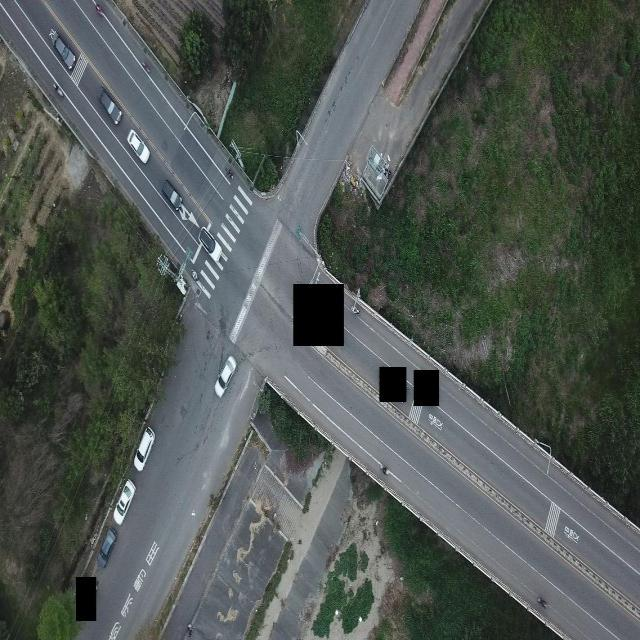bike: (536, 592, 549, 610), (379, 460, 392, 478)
car: (52, 26, 77, 73), (113, 478, 136, 525), (133, 425, 155, 471), (214, 354, 236, 398), (99, 87, 122, 125), (198, 226, 222, 262), (126, 128, 150, 164), (97, 526, 117, 568), (162, 179, 182, 211)
